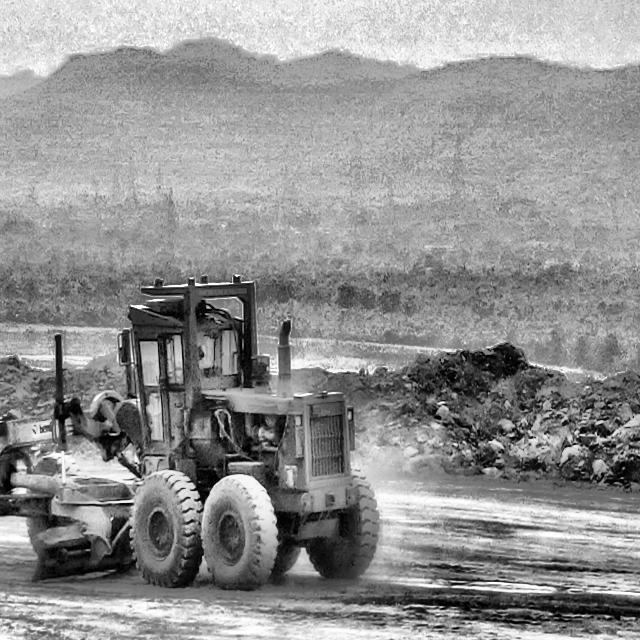buldozerpayloadergrader: (0, 280, 378, 590)
